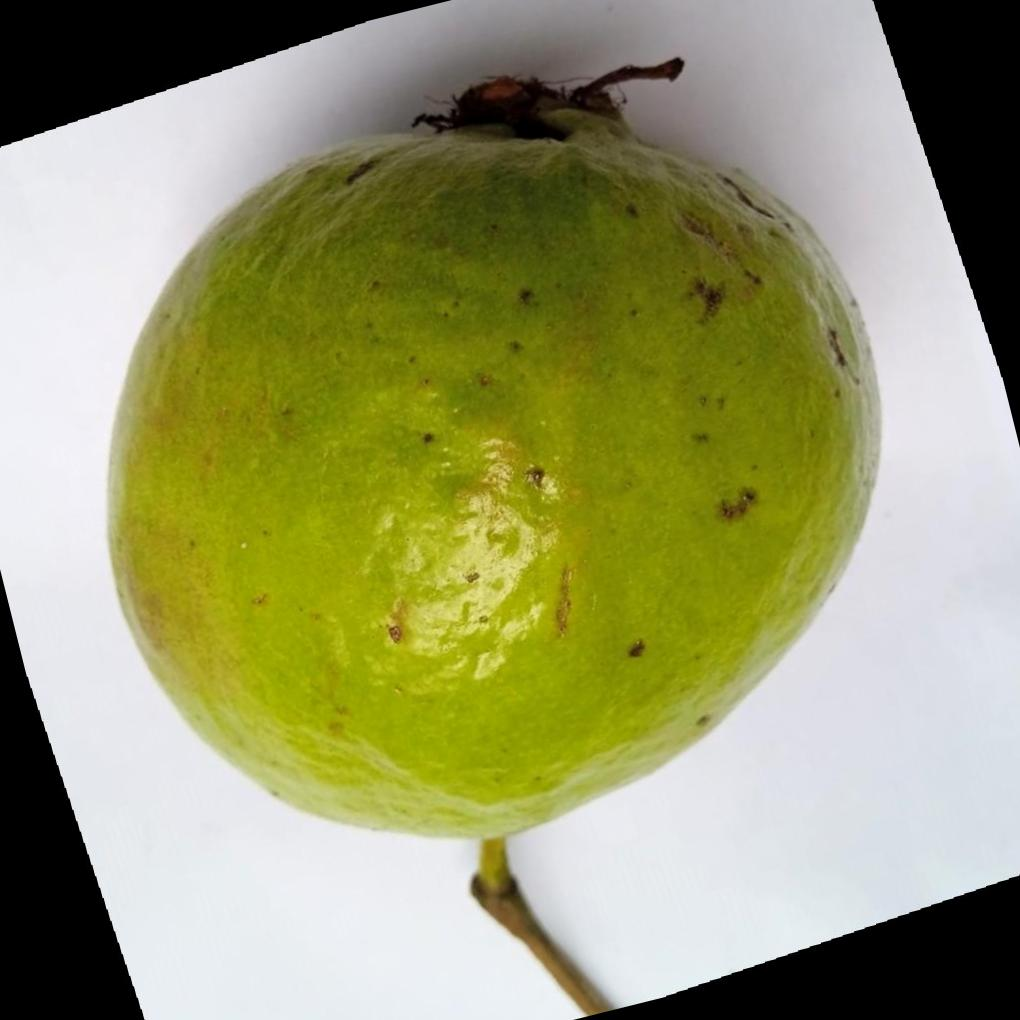FreshGuava: (102, 73, 883, 842)
